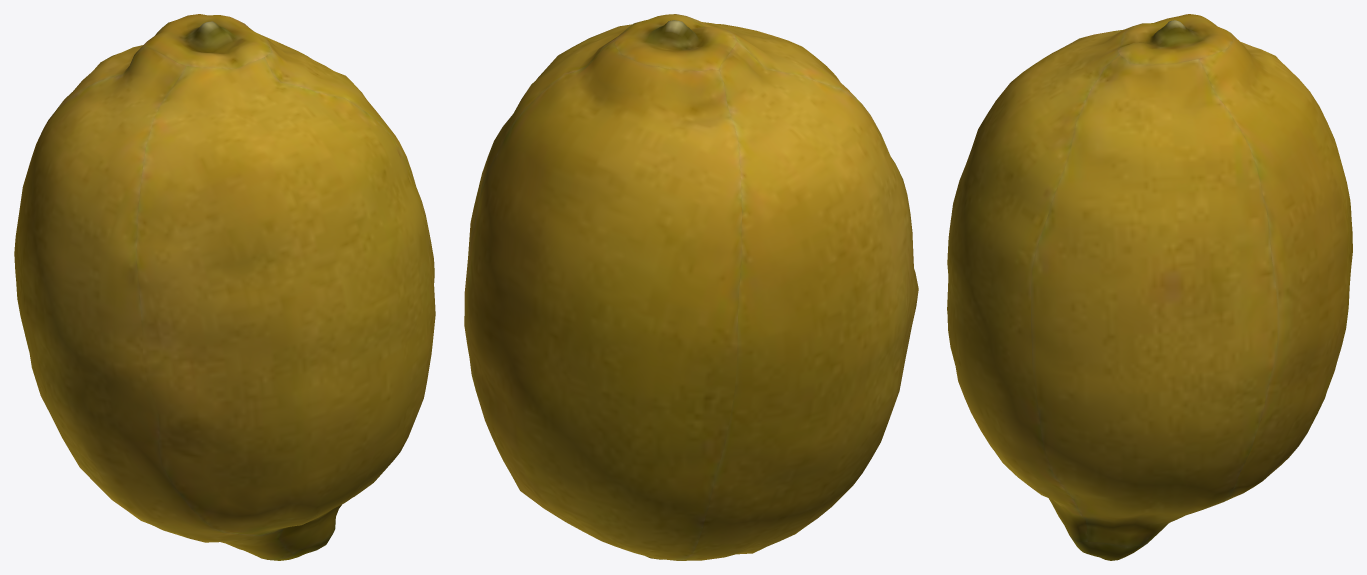
File: lemon.glb
3 renders of one model, left to right at view 1: azimuth 30°, elevation 25°; view 2: azimuth 150°, elevation 25°; view 3: azimuth 270°, elevation 25°, orthographic. The views are drawn at different scales.
Visible parts, largest first — view 1: lemon; view 2: lemon; view 3: lemon.
Part boxes in pixels (bbox=[...]): lemon: bbox=[14, 14, 435, 560]; lemon: bbox=[464, 14, 918, 560]; lemon: bbox=[947, 14, 1352, 560].
Bounding box in the file's own units: 0.0687 × 0.0954 × 0.0683.
1 material, 1 textured.
